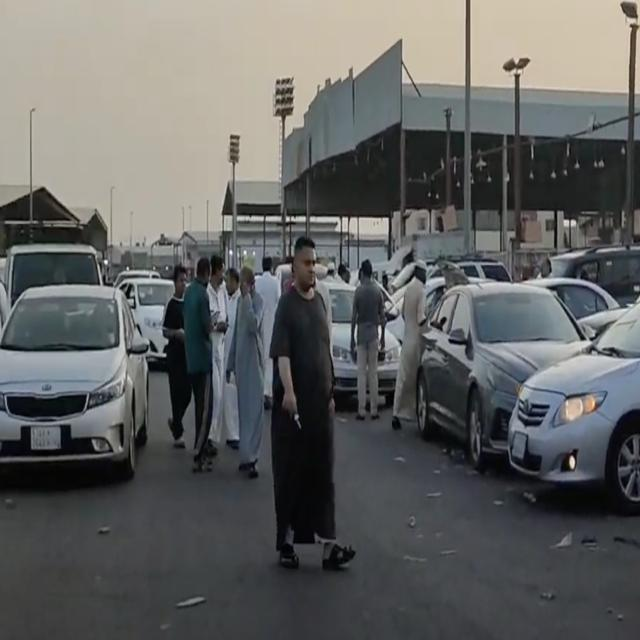license_plate: (28, 422, 62, 456), (510, 432, 529, 461)
